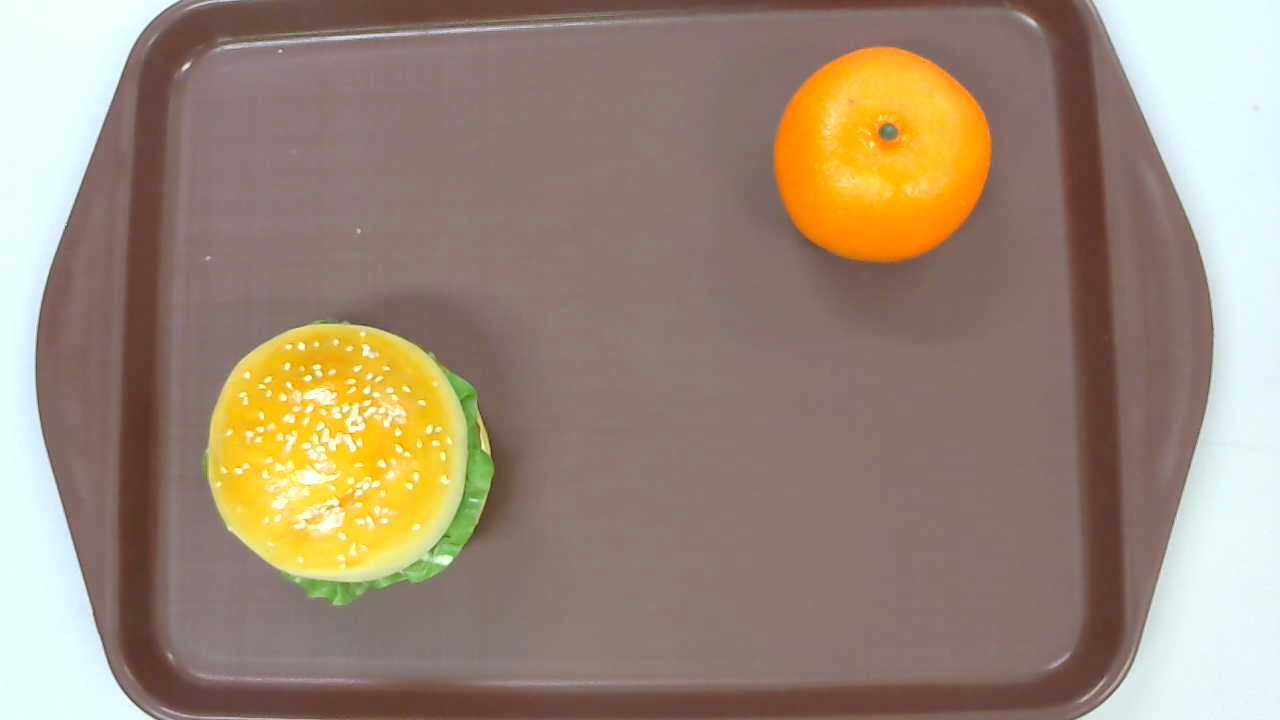hamburger: (202, 320, 494, 603)
orange: (772, 45, 991, 265)
